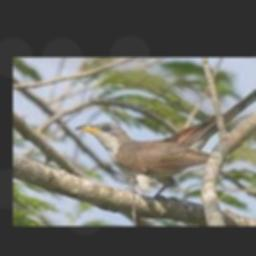Cuckoo: (74, 79, 256, 199)
